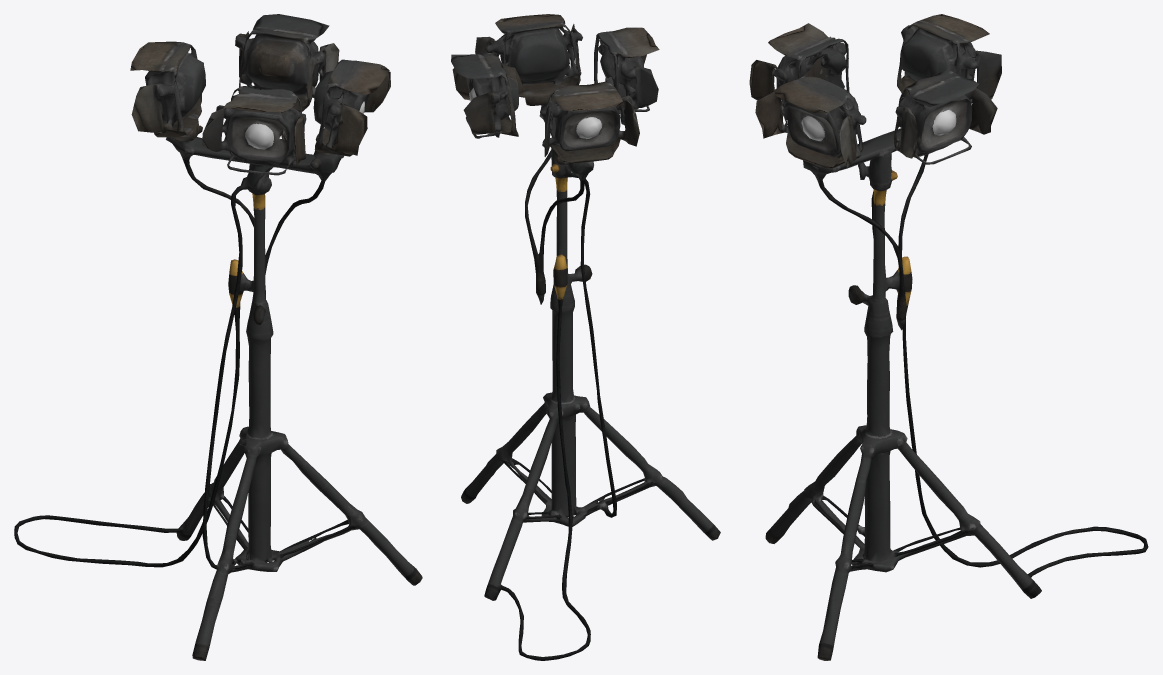
File: prop_floodlight.glb
3 renders of one model, left to right at view 1: azimuth 30°, elevation 25°; view 2: azimuth 150°, elevation 25°; view 3: azimuth 270°, elevation 25°, orthographic. The views are drawn at different scales.
Bounding box in the file's own units: 0.5206 × 0.9947 × 0.6634.
1 material, 1 textured.
